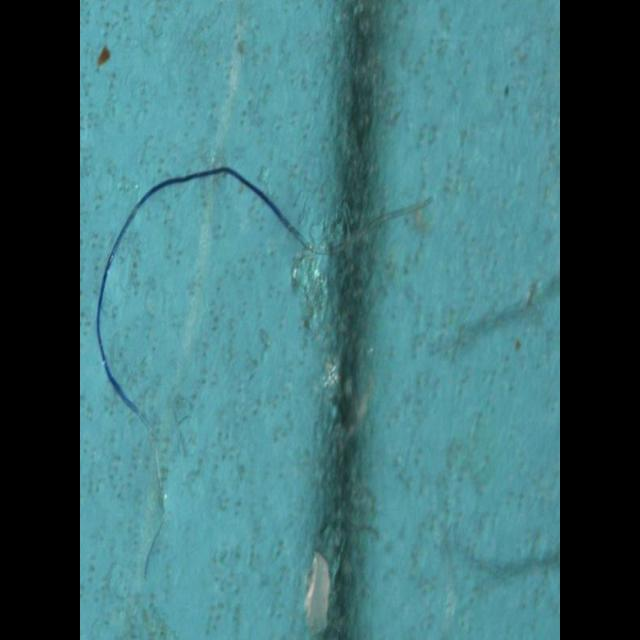Fibre: (91, 159, 321, 427)
